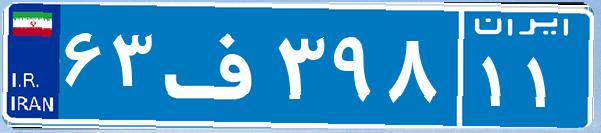1: (475, 38, 525, 113), (525, 38, 570, 115)
3: (273, 28, 330, 110), (110, 28, 158, 105)
6: (57, 26, 110, 107)
8: (385, 28, 445, 110)
9: (330, 28, 385, 110)
ف: (158, 15, 273, 115)
